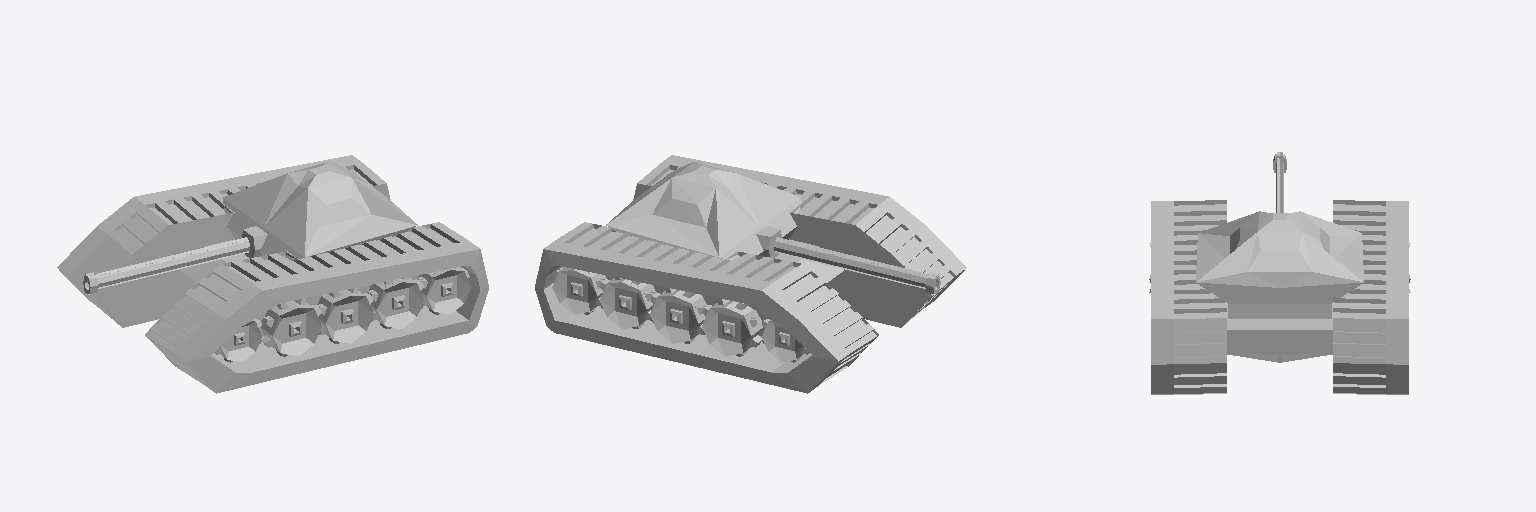
The model's file is char.obj.
3 renders of one model, left to right at view 1: azimuth 30°, elevation 25°; view 2: azimuth 150°, elevation 25°; view 3: azimuth 270°, elevation 25°, orthographic.
Visible parts, largest first — view 1: Cube; view 2: Cube; view 3: Cube.
Boxes of the visible parts, box(x1,y1,x2,y2) form: Cube: box(57, 155, 488, 393); Cube: box(535, 155, 966, 393); Cube: box(1149, 152, 1410, 394).
Bounding box in the file's own units: 1.01 × 0.3994 × 0.6734.